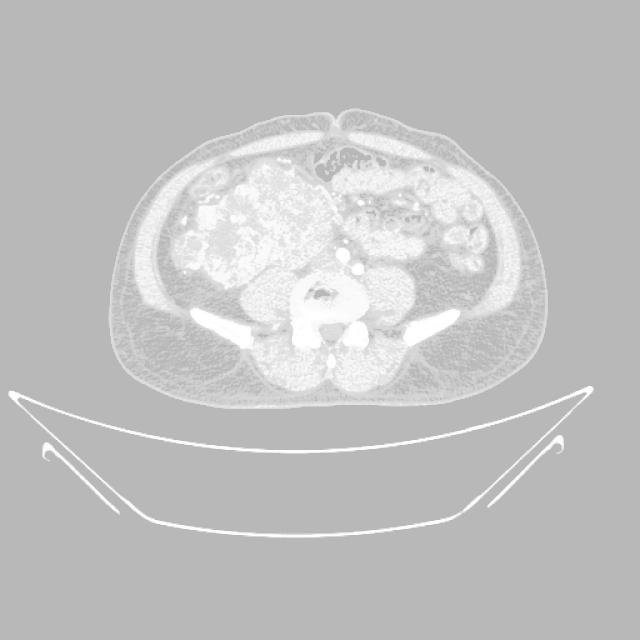TUMOR: (195, 184, 518, 356)
